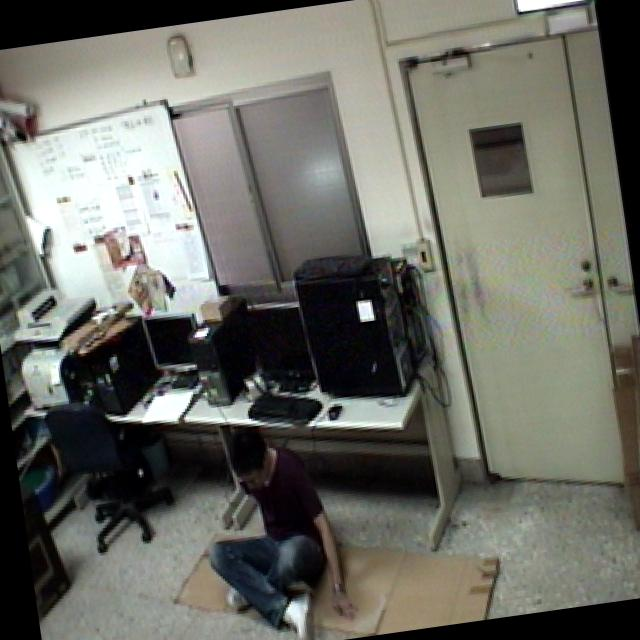sit: (179, 407, 364, 640)
